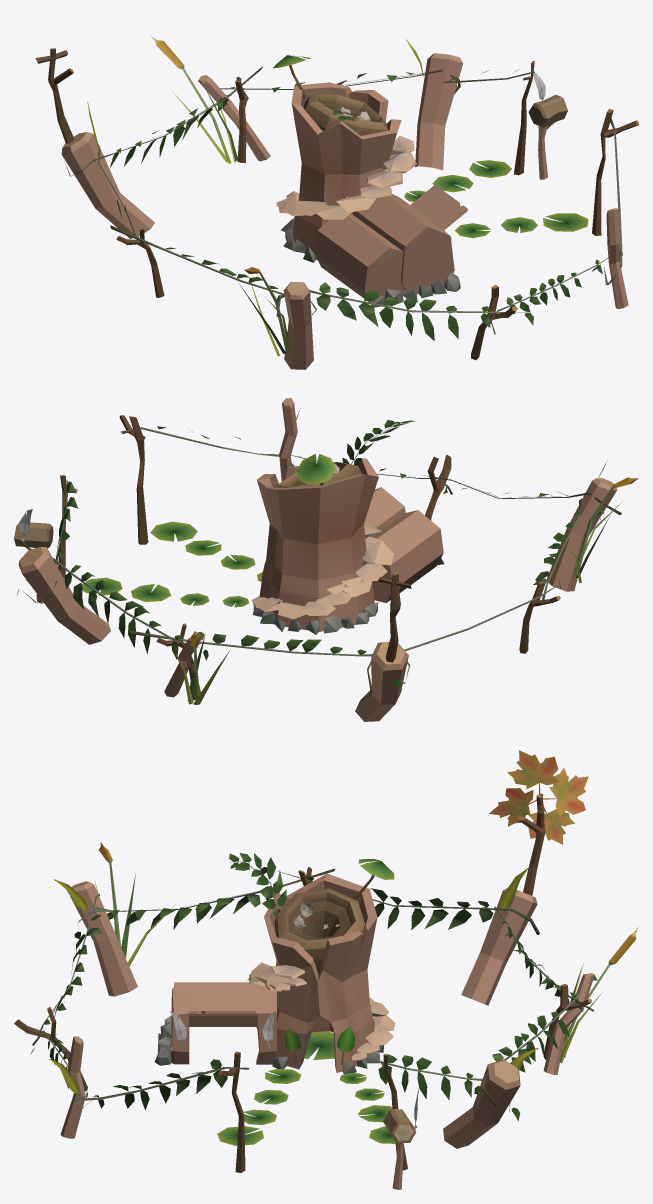
3 views of the same model, one above another, from view 1: azimuth 30°, elevation 25°; view 2: azimuth 150°, elevation 25°; view 3: azimuth 270°, elevation 25° (orthographic).
Parts seen in each view (by area): view 1: nestStage_12, garageDoor12; view 2: nestStage_12; view 3: nestStage_12, nestStageWindmill_11.007.
Boxes of the visible parts, left/top/right/bottom form: nestStage_12: left=48, top=35, right=638, bottom=369; garageDoor12: left=410, top=185, right=467, bottom=230; nestStage_12: left=14, top=398, right=638, bottom=721; nestStage_12: left=14, top=794, right=638, bottom=1189; nestStageWindmill_11.007: left=489, top=750, right=588, bottom=844.
Size of the model in its own units: 6.39 by 2.88 by 6.91.
